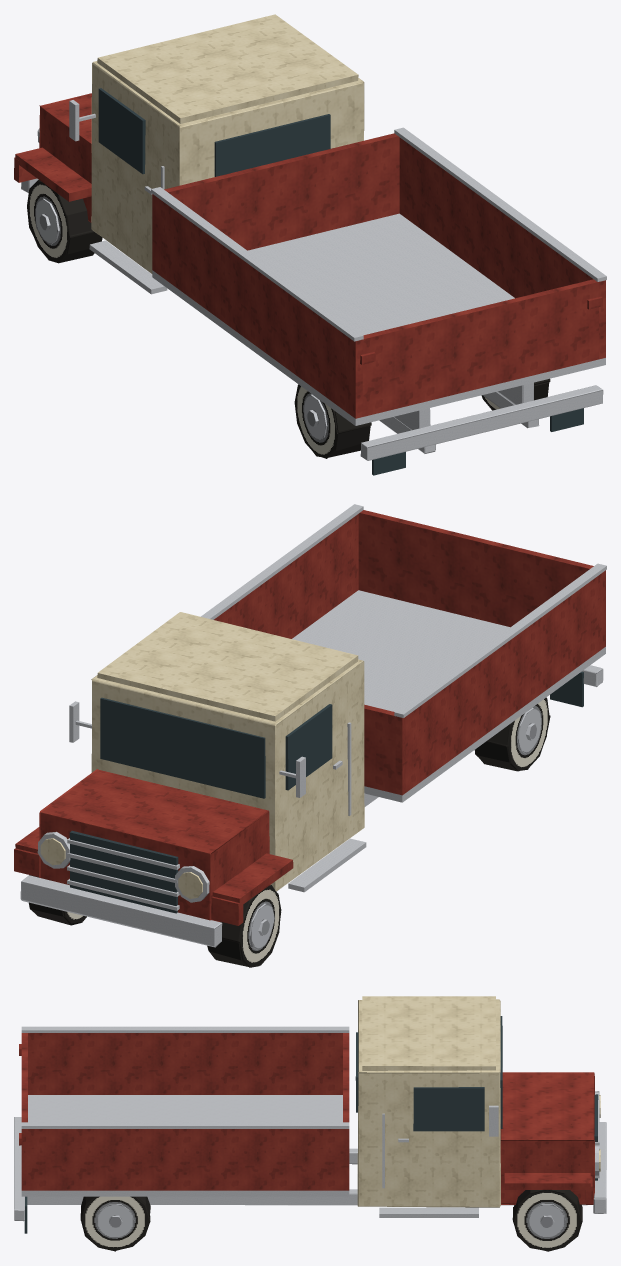
File: homestead_classic.glb
The picture shows the model from 3 angles, top to bottom: view 1: azimuth 30°, elevation 25°; view 2: azimuth 150°, elevation 25°; view 3: azimuth 270°, elevation 25°; orthographic projection. The views are drawn at different scales.
Parts seen in each view (by area): view 1: HomesteadClassic, Tailgate, Wheel_L1, Wheel_L2; view 2: HomesteadClassic, Tailgate, Wheel_L1, Wheel_L2, Wheel_R1; view 3: HomesteadClassic, Wheel_R1, Wheel_R2, Tailgate.
Boxes of the visible parts, left/top/right/bottom form: HomesteadClassic: left=14, top=14, right=606, bottom=475; Tailgate: left=362, top=279, right=598, bottom=416; Wheel_L1: left=27, top=180, right=102, bottom=263; Wheel_L2: left=294, top=384, right=371, bottom=458; HomesteadClassic: left=14, top=504, right=606, bottom=947; Tailgate: left=358, top=510, right=593, bottom=627; Wheel_L1: left=207, top=885, right=281, bottom=967; Wheel_L2: left=474, top=697, right=550, bottom=771; Wheel_R1: left=28, top=875, right=86, bottom=925; HomesteadClassic: left=14, top=996, right=606, bottom=1233; Wheel_R1: left=512, top=1190, right=582, bottom=1251; Wheel_R2: left=80, top=1196, right=150, bottom=1251; Tailgate: left=21, top=1033, right=27, bottom=1122.
Size of the model in its own units: 3.05 by 2.57 by 7.7.
5 materials, 4 textured.
